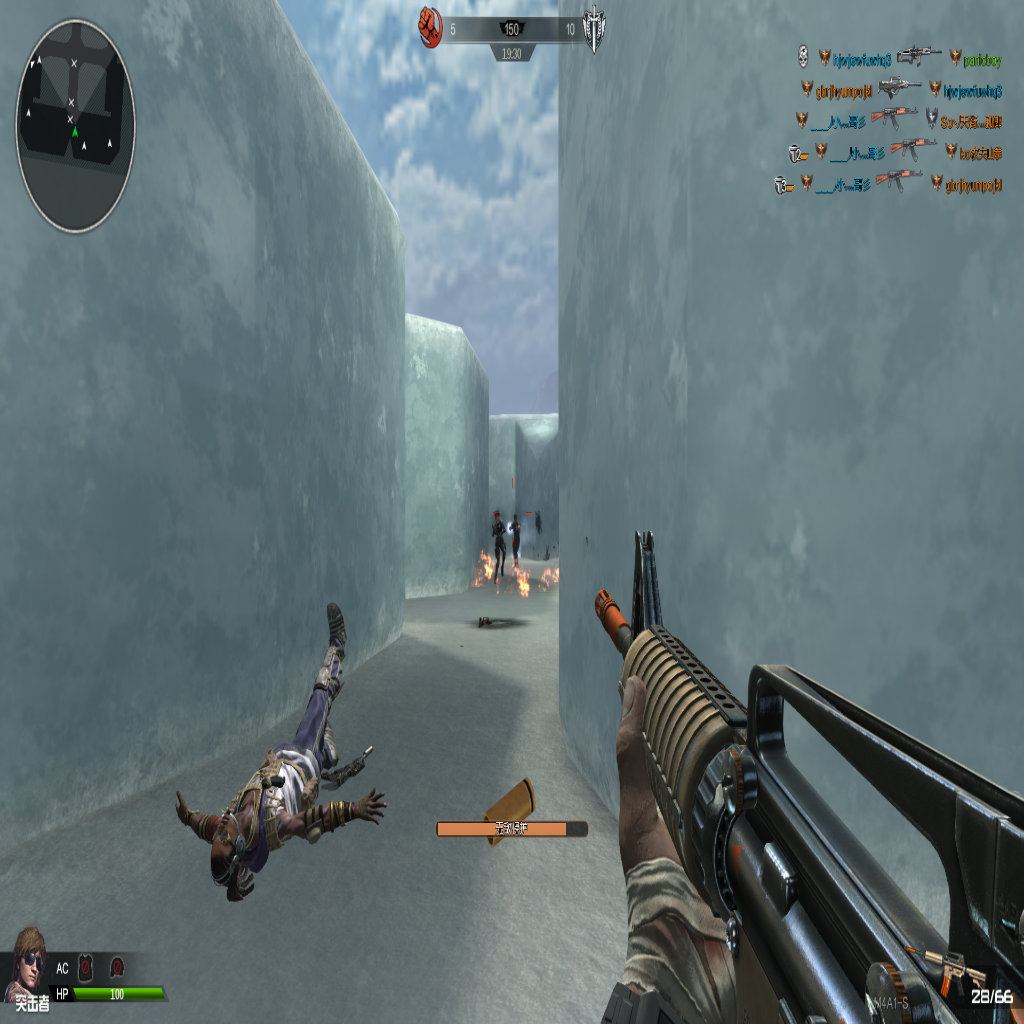ct: (491, 505, 508, 586), (510, 512, 521, 573)
